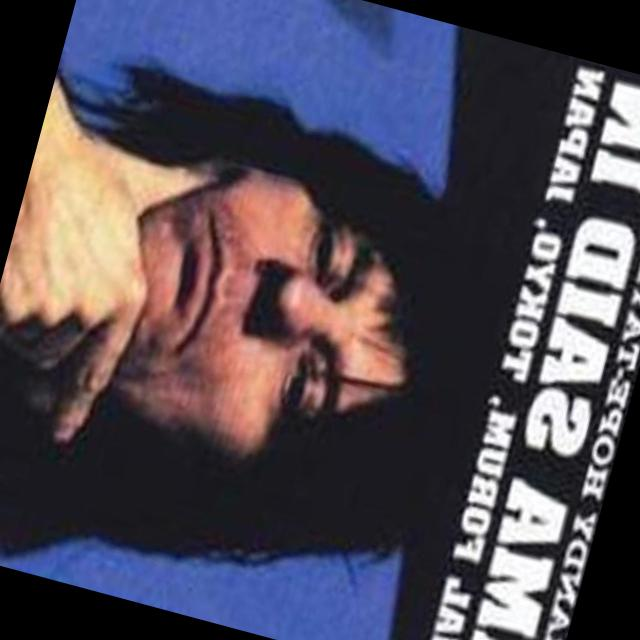bareface: (89, 149, 446, 482)
